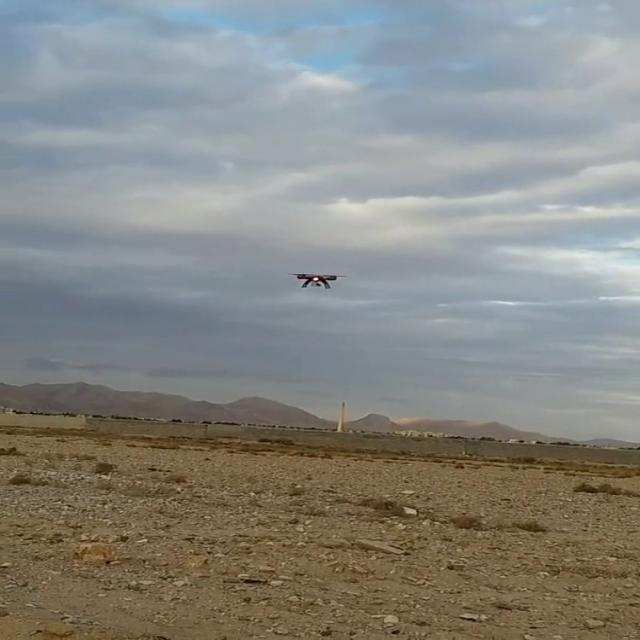drone: (284, 268, 344, 292)
